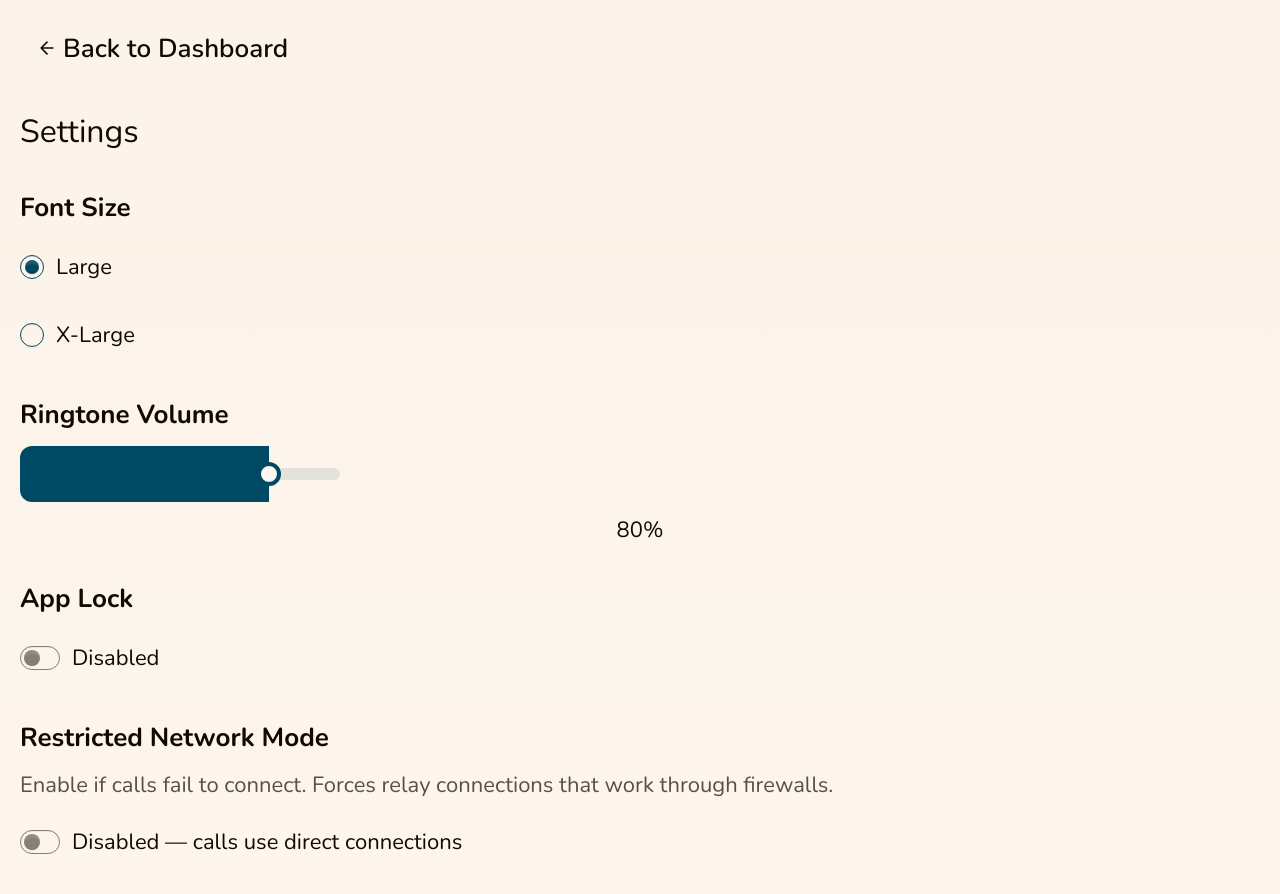
Scenario: ElderlyUserSettings › toggling lock on shows PIN setup fields without writing to Firestore
This screenshot has width=1280, height=894.
Click the checkbox named "enable app lock" at point(40, 658), box [20, 646, 60, 670]
(page scrolled)
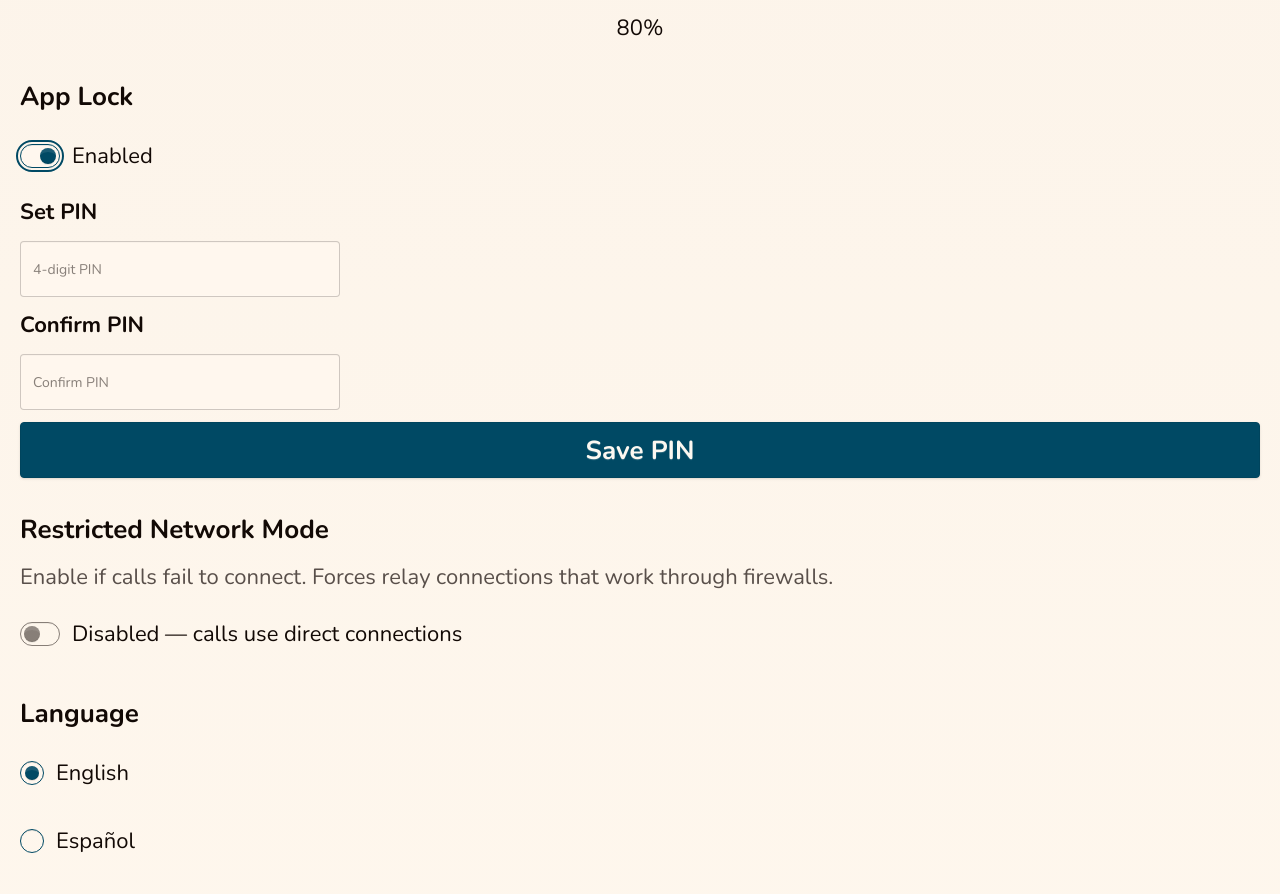
Now the password field labelled "Set PIN" is shown, box [20, 241, 340, 297]
Now the password field labelled "Confirm PIN" is shown, box [20, 354, 340, 410]
Now the button "Save PIN" is shown, box [20, 422, 1260, 478]
